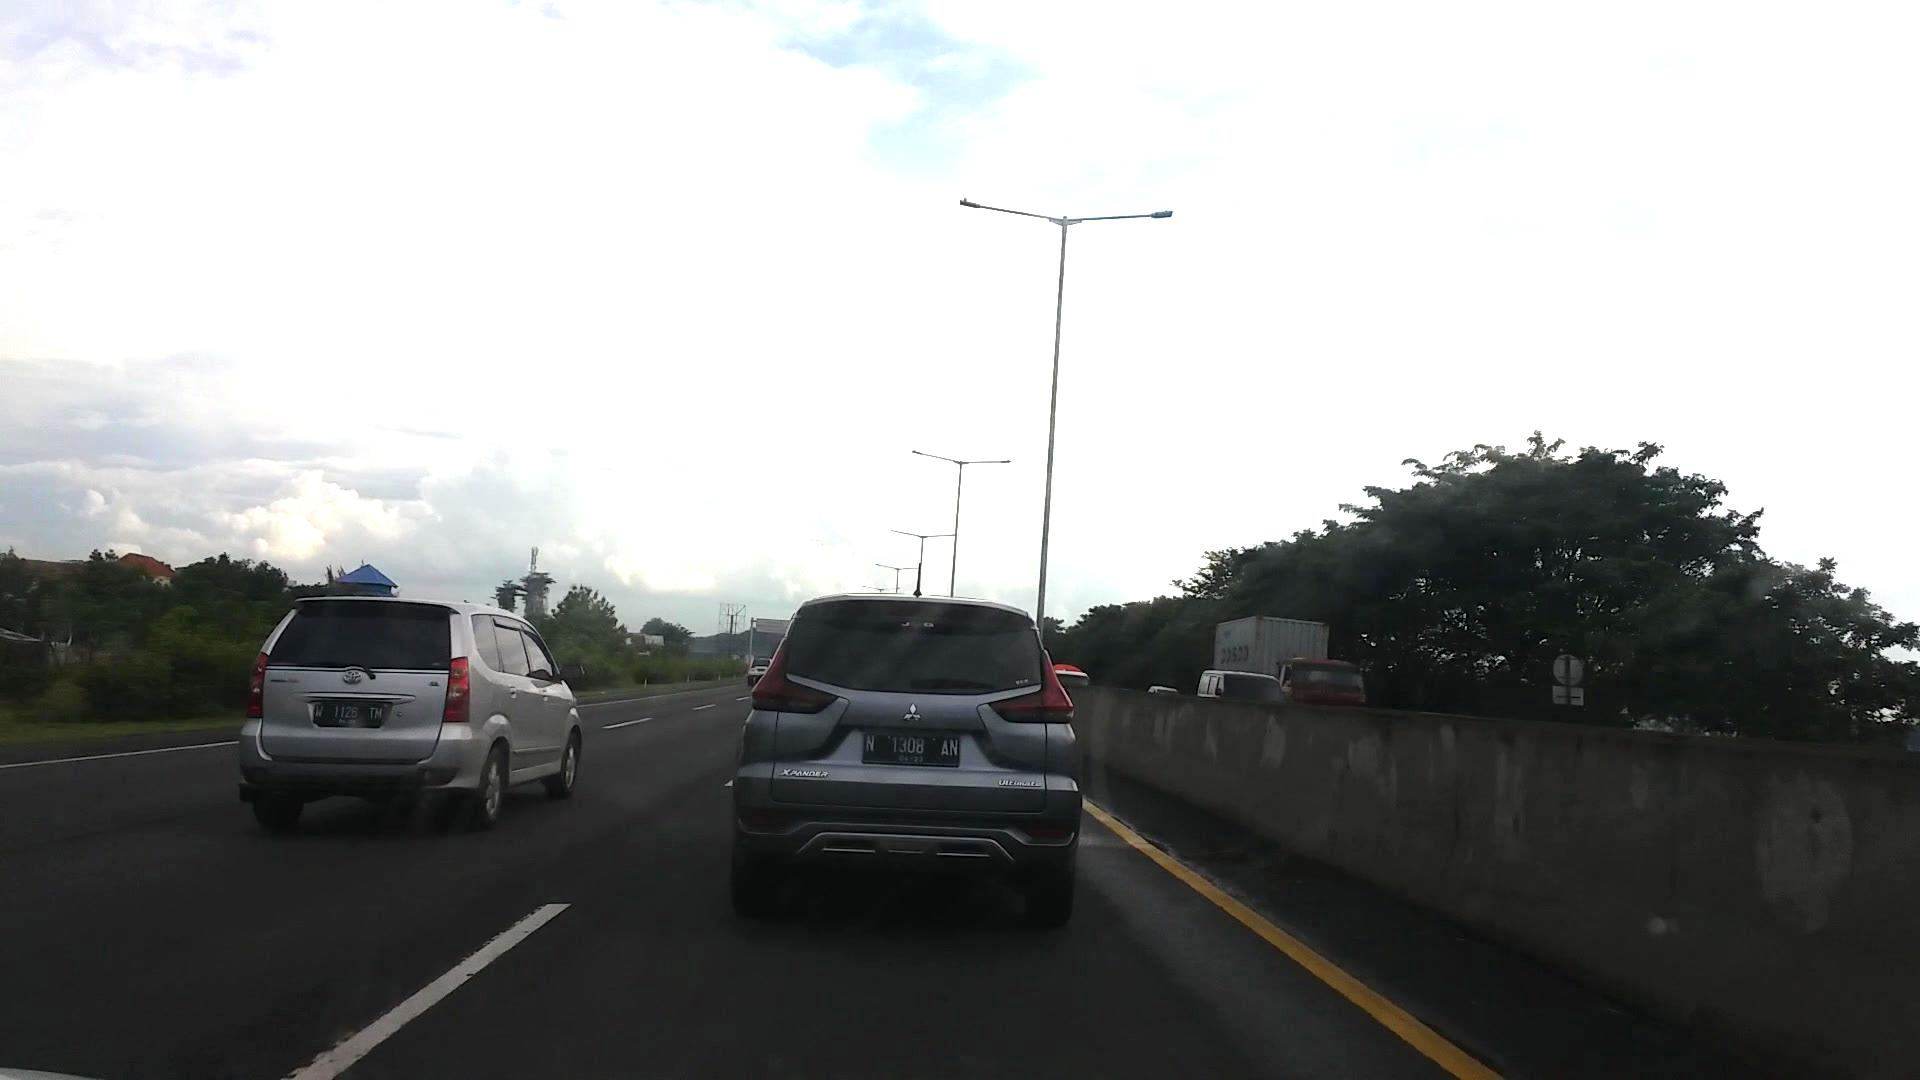plate_positive: (862, 729, 960, 767), (313, 703, 384, 727)
